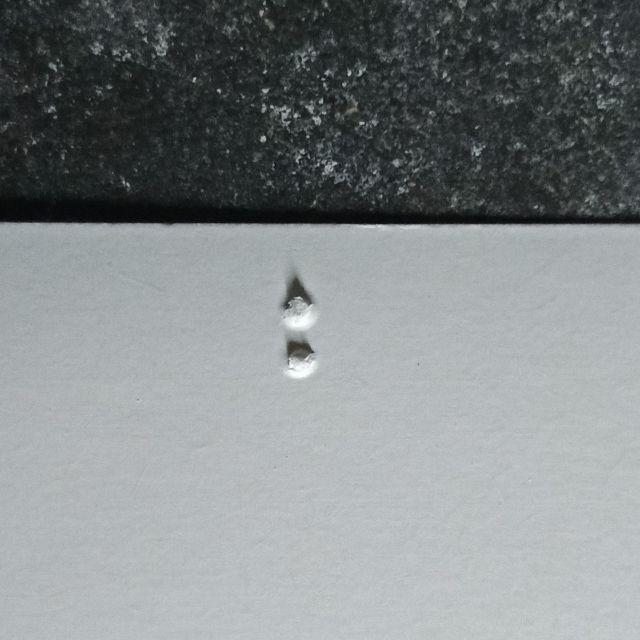b: (280, 286, 362, 418)
